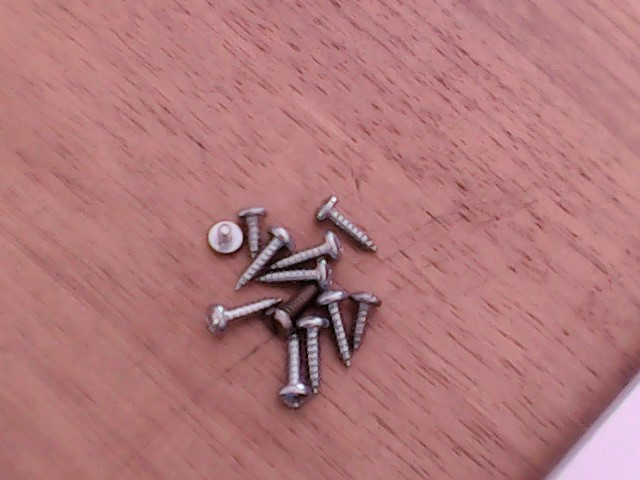Metal: (200, 178, 392, 415)
